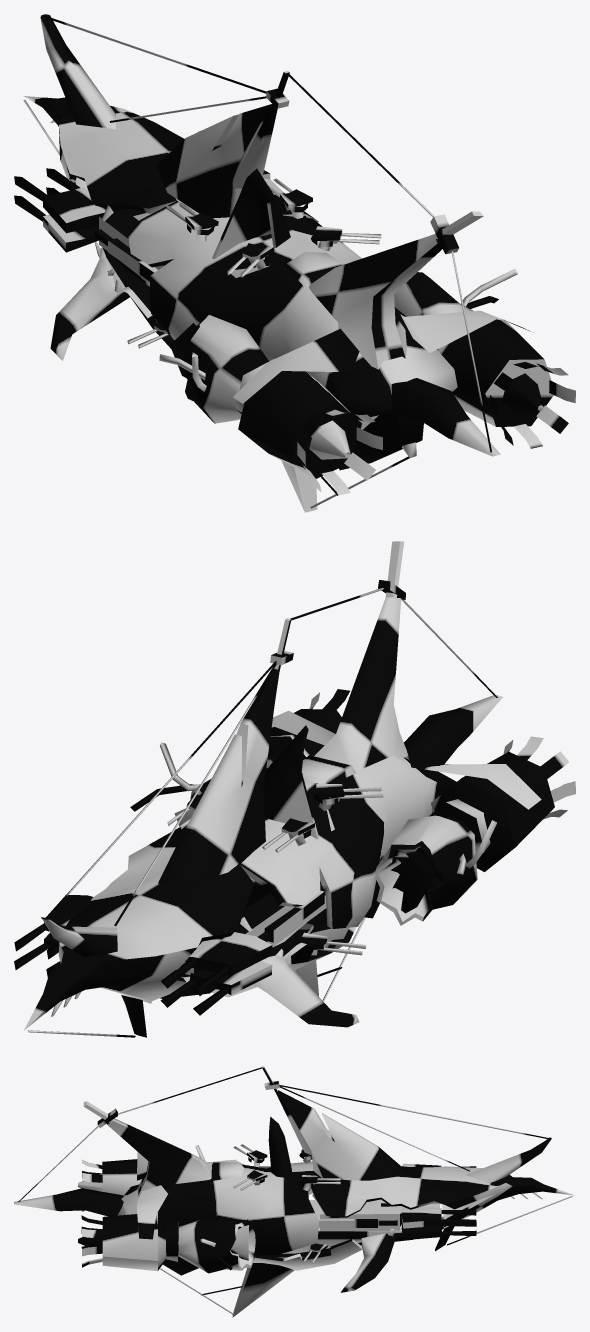
The model's file is annihilator.obj.
3 views of the same model, one above another, from view 1: azimuth 30°, elevation 25°; view 2: azimuth 150°, elevation 25°; view 3: azimuth 270°, elevation 25° (orthographic). The views are drawn at different scales.
Parts seen in each view (by area): view 1: annihilator; view 2: annihilator; view 3: annihilator.
Boxes of the visible parts, x1=… form: annihilator: x1=14, y1=14, x2=575, y2=512; annihilator: x1=14, y1=541, x2=575, y2=1037; annihilator: x1=14, y1=1066, x2=575, y2=1317.
Bounding box in the file's own units: 86.08 × 103 × 210.
1 material, 1 textured.
